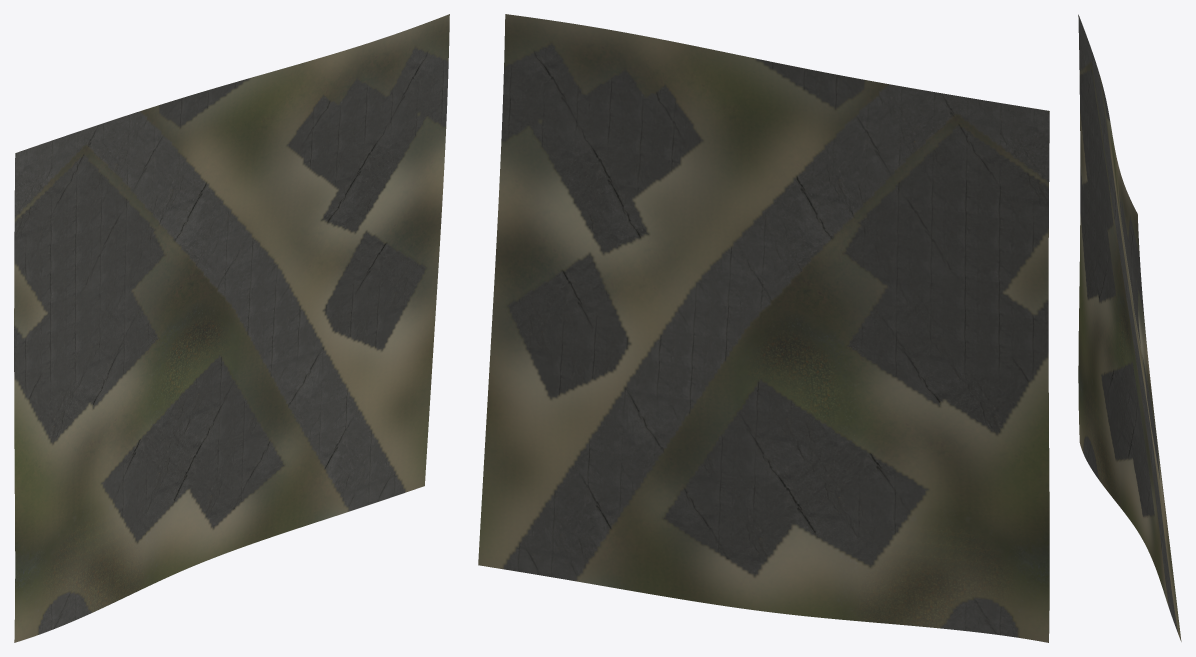
Rendered from ground_core_05_05.obj.
The picture shows the model from 3 angles, left to right: view 1: azimuth 30°, elevation 25°; view 2: azimuth 150°, elevation 25°; view 3: azimuth 270°, elevation 25°; orthographic projection. The views are drawn at different scales.
Visible parts, largest first — view 1: ground_core_05_05; view 2: ground_core_05_05; view 3: ground_core_05_05.
Boxes of the visible parts, bbox=[...] form: ground_core_05_05: bbox=[14, 14, 449, 642]; ground_core_05_05: bbox=[478, 14, 1049, 642]; ground_core_05_05: bbox=[1078, 14, 1181, 641].
Size of the model in its own units: 50 by 50 by 10.9.
Materials: 1 (1 with a texture image).
